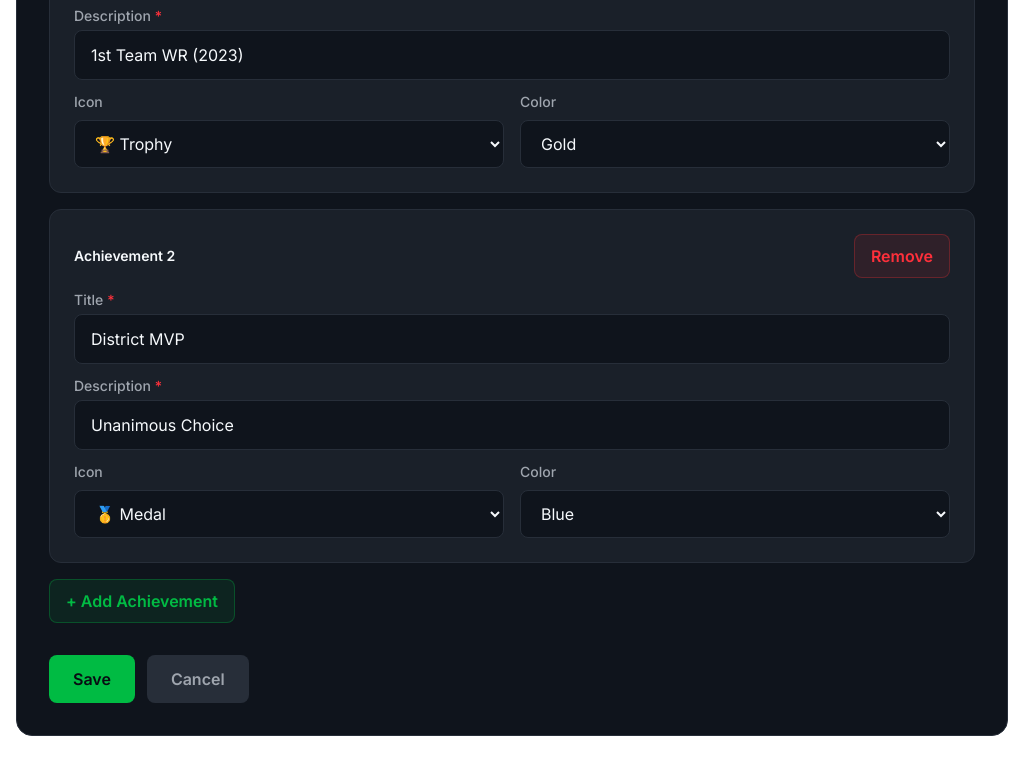
it: AthleticAchievementsSection - Inline Editing › Save Functionality › disables form inputs while saving
(page scrolled)
Click the button "Save".
click(92, 679)  # box [49,655,135,703]
(page scrolled)
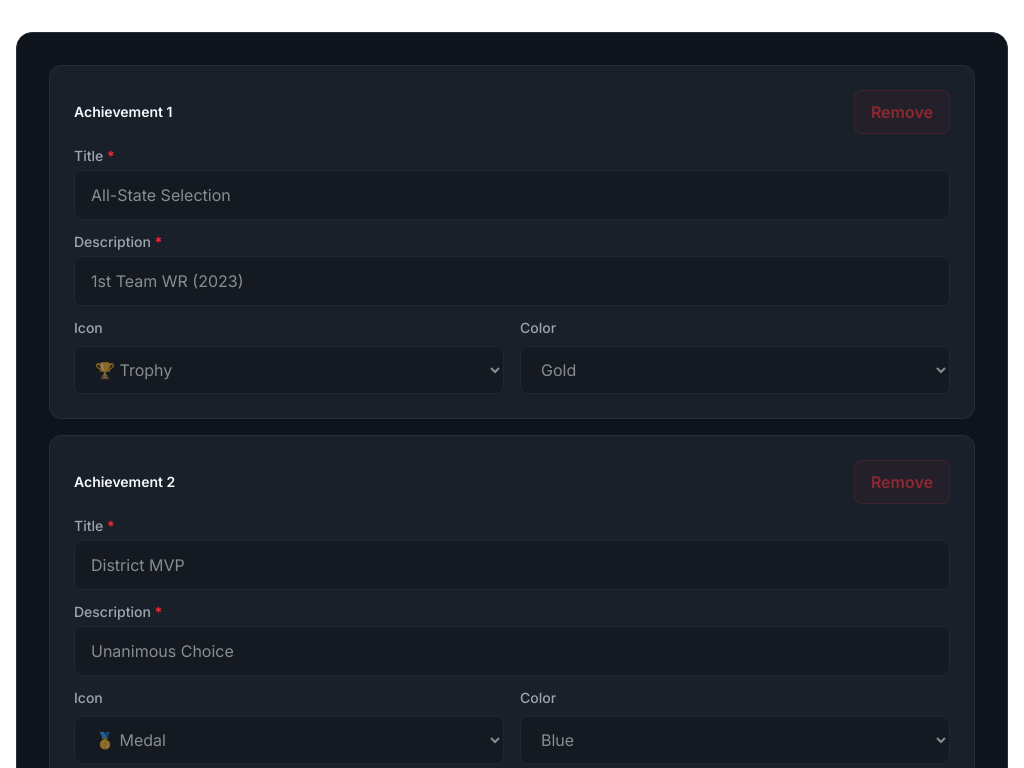
Expected: the 1st field labelled "Title*" is disabled, [74,170,950,220]
